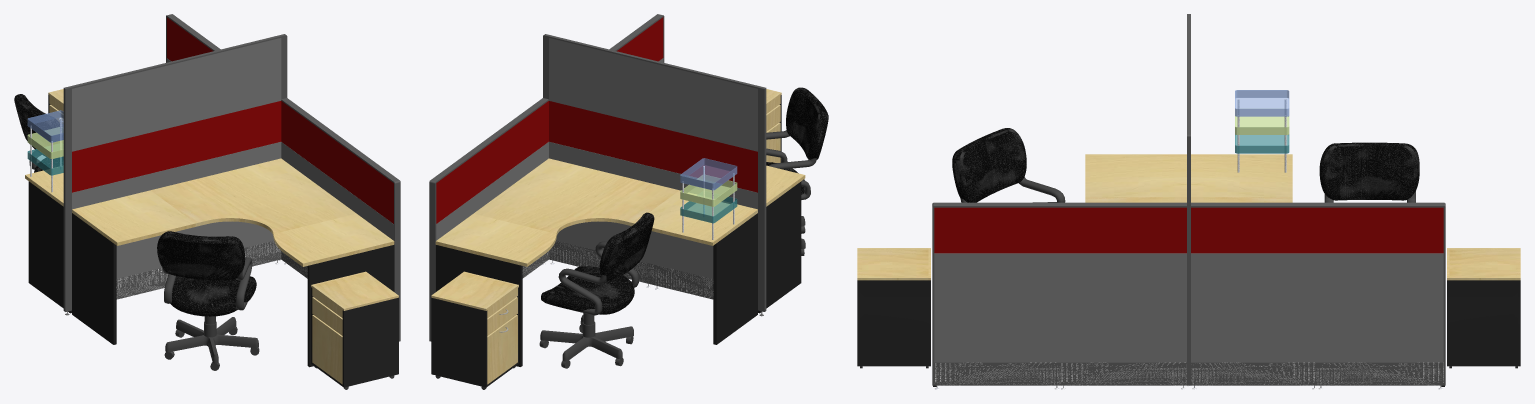
The model's file is Workstation+System.dae.
3 views of the same model, side by side, from view 1: azimuth 30°, elevation 25°; view 2: azimuth 150°, elevation 25°; view 3: azimuth 270°, elevation 25° (orthographic). The views are drawn at different scales.
Parts seen in each view (by area): view 1: group_35 (×2), ZChair (×5), group_33 (×2), group_4, group_40, group_2, group_38, Group_383, group_27 (×2), group_39, group_3, group_34 (+16 smaller); view 2: group_35 (×2), ZChair (×6), group_33 (×2), group_40, group_4, group_2, Group_383, group_38, group_27 (×2), group_39, group_3, group_34 (+17 smaller); view 3: group_22 (×2), group_28 (×2), group_27 (×2), group_21 (×2), group_35 (×2), ZChair (×2), group_26 (×2), group_20 (×2), group_15, group_45, Group_384 (×2), group_23 (×2) (+4 smaller).
Boxes of the visible parts, left/top/right/bottom form: group_35 (×2): left=25, top=158, right=394, bottom=266; ZChair (×5): left=14, top=94, right=258, bottom=363; group_33 (×2): left=28, top=181, right=116, bottom=344; group_4: left=176, top=38, right=281, bottom=125; group_40: left=72, top=63, right=176, bottom=151; group_2: left=176, top=101, right=281, bottom=166; group_38: left=72, top=126, right=176, bottom=192; Group_383: left=342, top=297, right=398, bottom=385; group_27 (×2): left=167, top=17, right=393, bottom=223; group_39: left=72, top=167, right=176, bottom=278; group_3: left=176, top=142, right=281, bottom=247; group_34: left=307, top=245, right=394, bottom=367; group_35 (×2): left=435, top=158, right=805, bottom=266; ZChair (×6): left=540, top=87, right=828, bottom=361; group_33 (×2): left=713, top=181, right=801, bottom=344; group_40: left=653, top=63, right=757, bottom=151; group_4: left=549, top=38, right=653, bottom=126; group_2: left=549, top=101, right=653, bottom=166; Group_383: left=431, top=297, right=487, bottom=385; group_38: left=653, top=126, right=757, bottom=192; group_27 (×2): left=436, top=17, right=663, bottom=223; group_39: left=653, top=167, right=757, bottom=278; group_3: left=549, top=142, right=653, bottom=264; group_34: left=435, top=245, right=522, bottom=366; group_22 (×2): left=1060, top=253, right=1317, bottom=362; group_28 (×2): left=934, top=253, right=1443, bottom=362; group_27 (×2): left=934, top=207, right=1443, bottom=253; group_21 (×2): left=1060, top=207, right=1317, bottom=253; group_35 (×2): left=1085, top=154, right=1292, bottom=202; ZChair (×2): left=952, top=128, right=1419, bottom=202; group_26 (×2): left=934, top=362, right=1443, bottom=385; group_20 (×2): left=1060, top=362, right=1317, bottom=385; group_15: left=1449, top=280, right=1517, bottom=363; group_45: left=860, top=280, right=928, bottom=363; Group_384 (×2): left=857, top=248, right=1520, bottom=280; group_23 (×2): left=932, top=202, right=1445, bottom=207.
Bounding box in the file's own units: 66.77 × 154 × 65.35.
